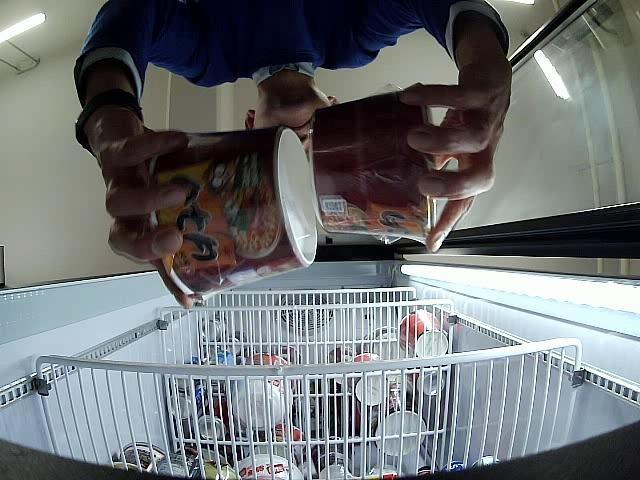05_nuguri_L: (150, 126, 318, 296), (309, 81, 436, 245)
